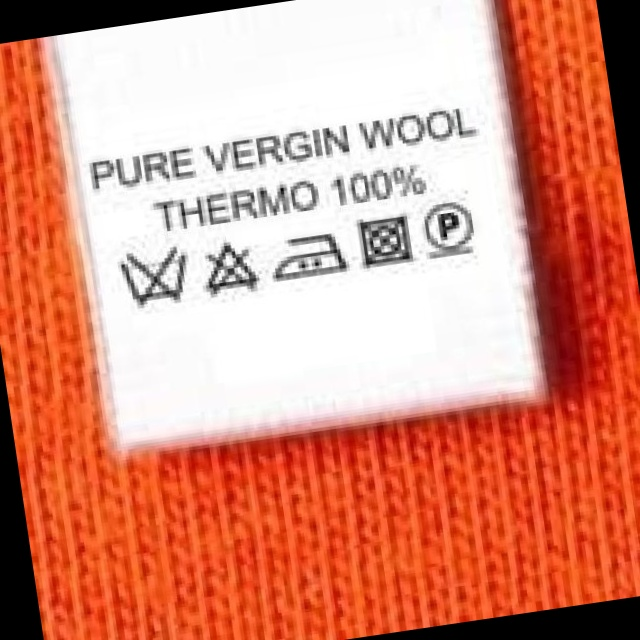DN_bleach: (200, 235, 263, 300)
DN_tumble_dry: (356, 208, 420, 273)
DN_wash: (113, 241, 197, 315)
dry_clean_any_solvent_except_trichloroethylene: (418, 193, 481, 263)
iron_medium: (266, 225, 350, 289)
